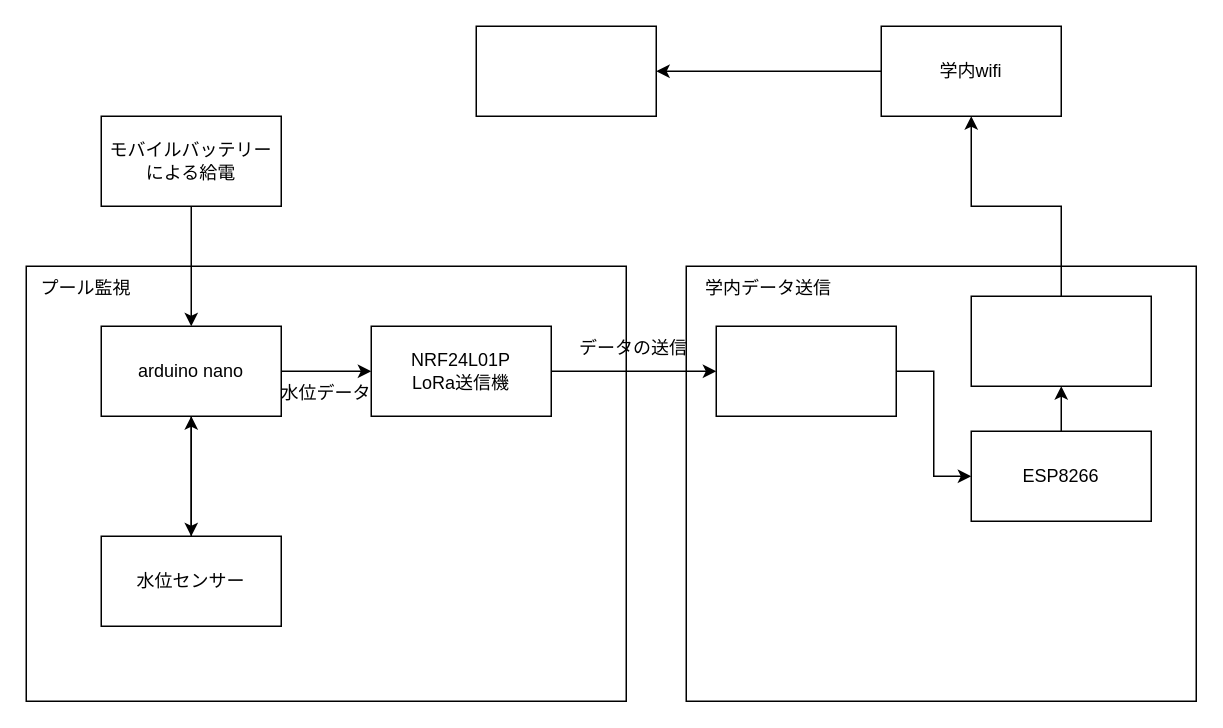
Image size: 1223x728. Some labels were removed from this diagram. The box of each missing label's shape, as (x1, y1, x2, y2) in pixels:
NRF24L01P LoRa受信機: (715, 325, 896, 416)
wifiモジュール: (970, 295, 1151, 386)
教員スマホ: (475, 25, 656, 116)
